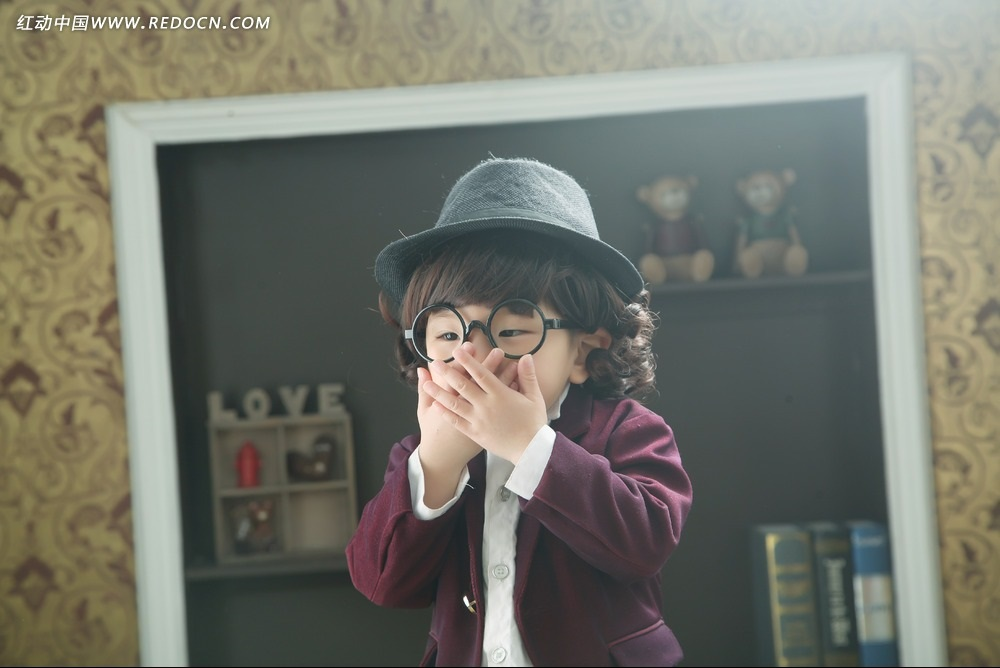face_mask: (425, 292, 564, 439)
